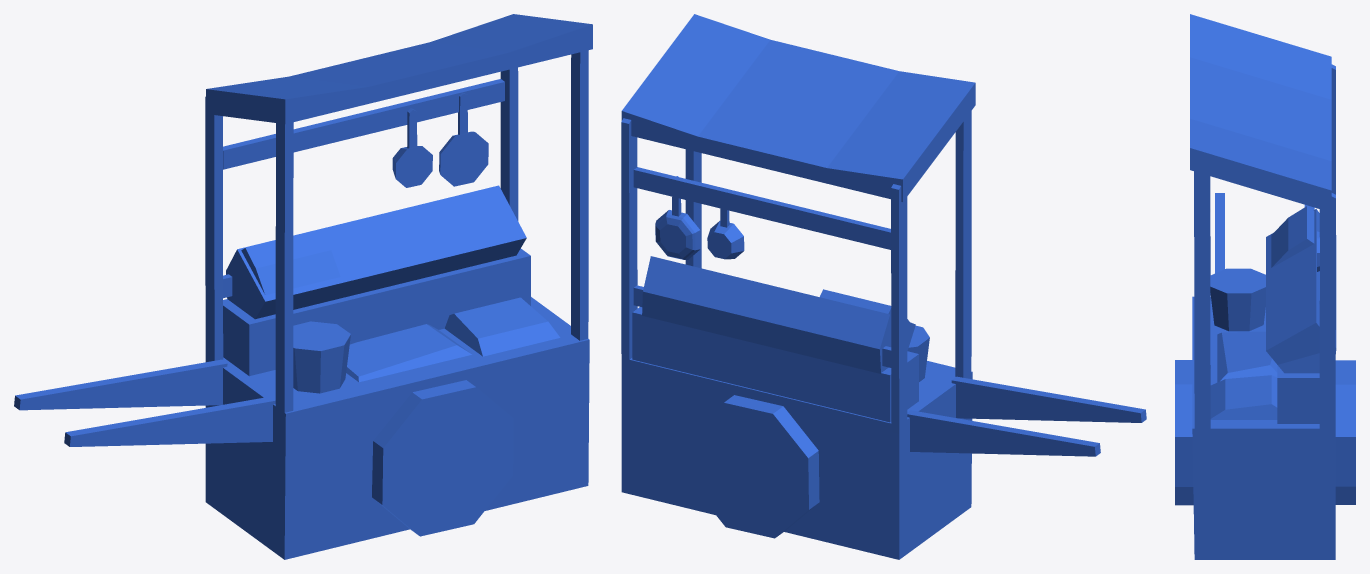
The model's file is Collision_Stall_Vegetables_Full.fbx.
3 renders of one model, left to right at view 1: azimuth 30°, elevation 25°; view 2: azimuth 150°, elevation 25°; view 3: azimuth 270°, elevation 25°, orthographic. The views are drawn at different scales.
Parts seen in each view (by area): view 1: UCX_Stall_Vegetables_Full_06, UCX_Stall_Vegetables_Full_05, UCX_Stall_Vegetables_Full_20, UCX_Stall_Vegetables_Full_07, UCX_Stall_Vegetables_Full_11, UCX_Stall_Vegetables_Full_15, UCX_Stall_Vegetables_Full_16, UCX_Stall_Vegetables_Full_09, UCX_Stall_Vegetables_Full_12, UCX_Stall_Vegetables_Full_13, UCX_Stall_Vegetables_Full_01, UCX_Stall_Vegetables_Full_10 (+8 smaller); view 2: UCX_Stall_Vegetables_Full_06, UCX_Stall_Vegetables_Full_11, UCX_Stall_Vegetables_Full_20, UCX_Stall_Vegetables_Full_05, UCX_Stall_Vegetables_Full_07, UCX_Stall_Vegetables_Full_12, UCX_Stall_Vegetables_Full_10, UCX_Stall_Vegetables_Full_09, UCX_Stall_Vegetables_Full_15, UCX_Stall_Vegetables_Full_16, UCX_Stall_Vegetables_Full_13, UCX_Stall_Vegetables_Full_14 (+6 smaller); view 3: UCX_Stall_Vegetables_Full_06, UCX_Stall_Vegetables_Full_11, UCX_Stall_Vegetables_Full_10, UCX_Stall_Vegetables_Full_20, UCX_Stall_Vegetables_Full_12, UCX_Stall_Vegetables_Full_05, UCX_Stall_Vegetables_Full_01, UCX_Stall_Vegetables_Full_02, UCX_Stall_Vegetables_Full_17, UCX_Stall_Vegetables_Full_19, UCX_Stall_Vegetables_Full_18, UCX_Stall_Vegetables_Full_07 (+3 smaller).
Boxes of the visible parts, box(x1,y1,x2,y2) form: UCX_Stall_Vegetables_Full_06: box(205, 297, 589, 559); UCX_Stall_Vegetables_Full_05: box(372, 380, 513, 536); UCX_Stall_Vegetables_Full_20: box(226, 185, 526, 319); UCX_Stall_Vegetables_Full_07: box(223, 248, 530, 376); UCX_Stall_Vegetables_Full_11: box(289, 42, 509, 103); UCX_Stall_Vegetables_Full_15: box(14, 359, 227, 410); UCX_Stall_Vegetables_Full_16: box(64, 396, 275, 446); UCX_Stall_Vegetables_Full_09: box(223, 79, 504, 169); UCX_Stall_Vegetables_Full_12: box(206, 76, 368, 124); UCX_Stall_Vegetables_Full_13: box(275, 122, 293, 420); UCX_Stall_Vegetables_Full_01: box(571, 50, 588, 340); UCX_Stall_Vegetables_Full_10: box(431, 14, 592, 69); UCX_Stall_Vegetables_Full_06: box(621, 358, 972, 559); UCX_Stall_Vegetables_Full_11: box(698, 39, 899, 183); UCX_Stall_Vegetables_Full_20: box(642, 256, 915, 373); UCX_Stall_Vegetables_Full_05: box(689, 395, 819, 538); UCX_Stall_Vegetables_Full_07: box(632, 307, 918, 422); UCX_Stall_Vegetables_Full_12: box(827, 71, 975, 201); UCX_Stall_Vegetables_Full_10: box(621, 14, 769, 151); UCX_Stall_Vegetables_Full_09: box(633, 167, 890, 249); UCX_Stall_Vegetables_Full_15: box(907, 410, 1100, 456); UCX_Stall_Vegetables_Full_16: box(951, 376, 1146, 422); UCX_Stall_Vegetables_Full_13: box(955, 111, 971, 378); UCX_Stall_Vegetables_Full_14: box(891, 184, 907, 434); UCX_Stall_Vegetables_Full_06: box(1192, 296, 1335, 559); UCX_Stall_Vegetables_Full_11: box(1190, 57, 1331, 160); UCX_Stall_Vegetables_Full_10: box(1190, 118, 1331, 212); UCX_Stall_Vegetables_Full_20: box(1266, 209, 1336, 373); UCX_Stall_Vegetables_Full_12: box(1190, 14, 1331, 99); UCX_Stall_Vegetables_Full_05: box(1175, 360, 1355, 505); UCX_Stall_Vegetables_Full_01: box(1194, 171, 1210, 428); UCX_Stall_Vegetables_Full_02: box(1319, 193, 1335, 428); UCX_Stall_Vegetables_Full_17: box(1210, 268, 1265, 331); UCX_Stall_Vegetables_Full_19: box(1210, 375, 1277, 419); UCX_Stall_Vegetables_Full_18: box(1217, 331, 1277, 382); UCX_Stall_Vegetables_Full_07: box(1277, 365, 1319, 423).
Size of the model in its own units: 301 by 262 by 104.
